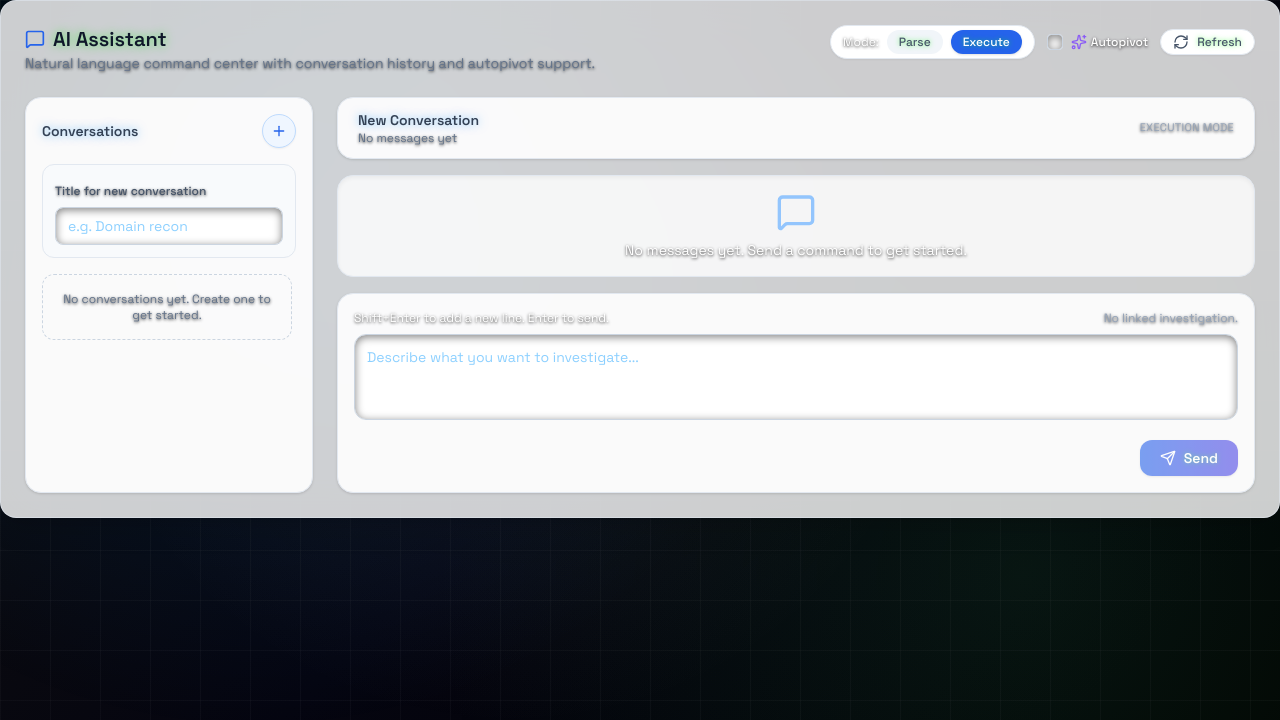
Scenario: ChatInterface › creates a conversation and renders assistant response
Click the button named "create conversation" at (279, 131), box 262,114 -> 296,148
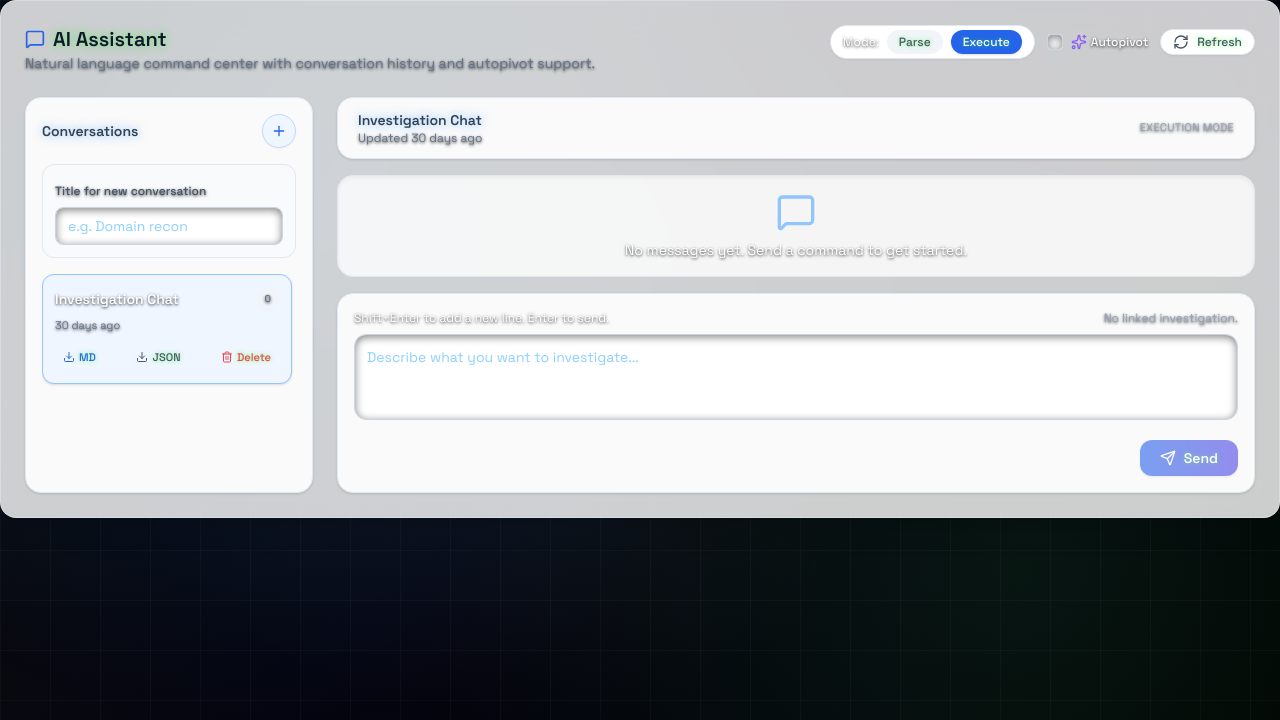
Type "Investigate example.com" into the text box with placeholder "Describe what you want to investigate..." at (796, 377), box 354,334 -> 1238,420
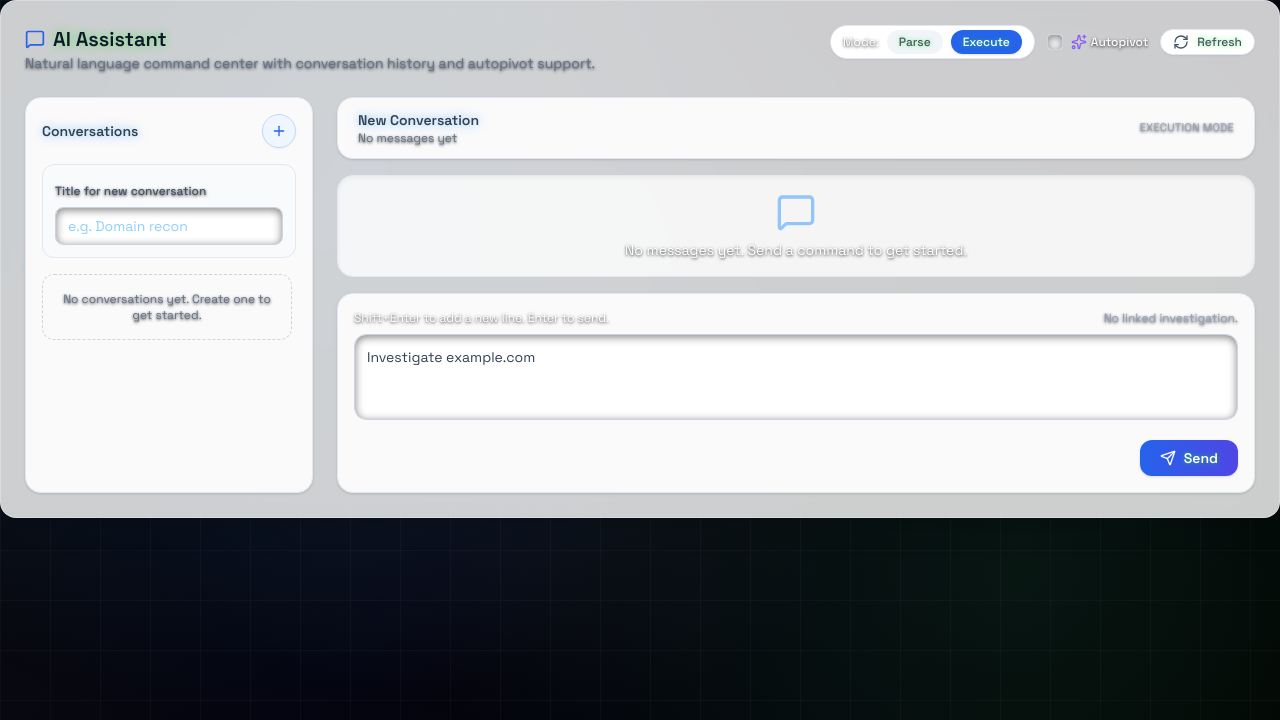
Click the button "Send" at (1189, 458), box 1140,440 -> 1238,476
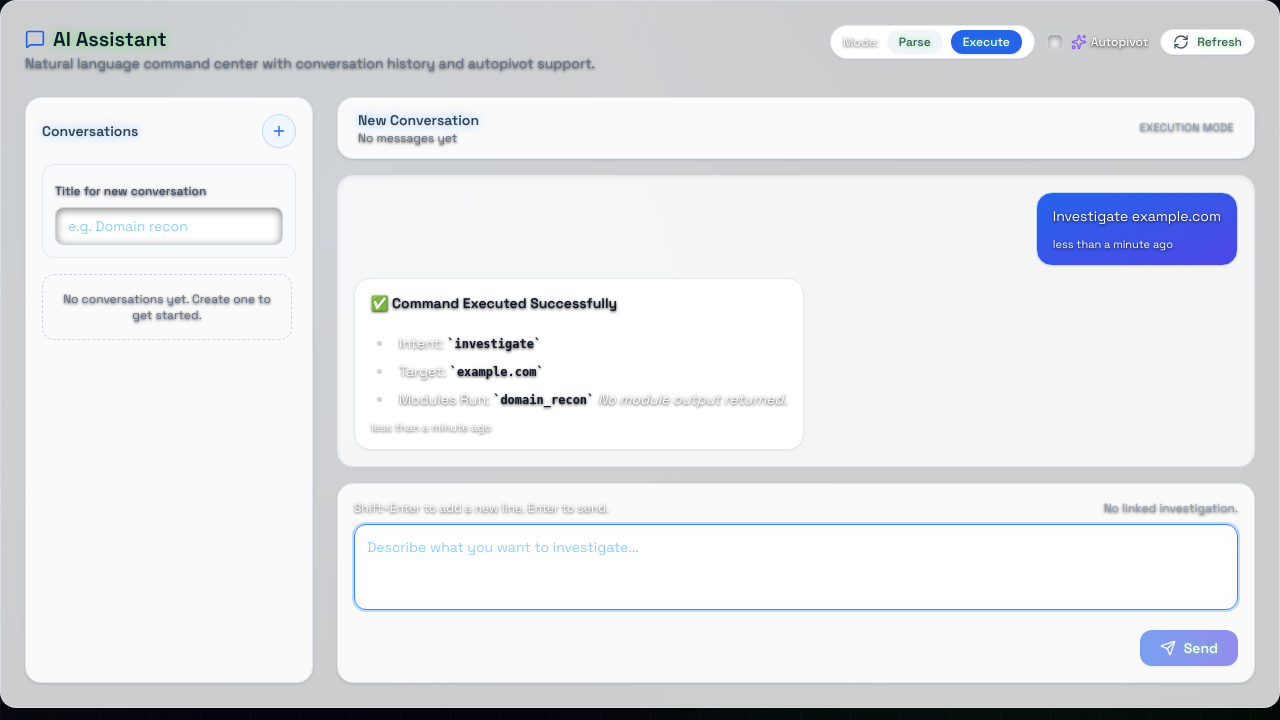
Expected: the text "Command Executed Successfully" is shown, 392,294 -> 617,312
Expected: the text "Investigate example.com" is shown, 1053,205 -> 1221,228
